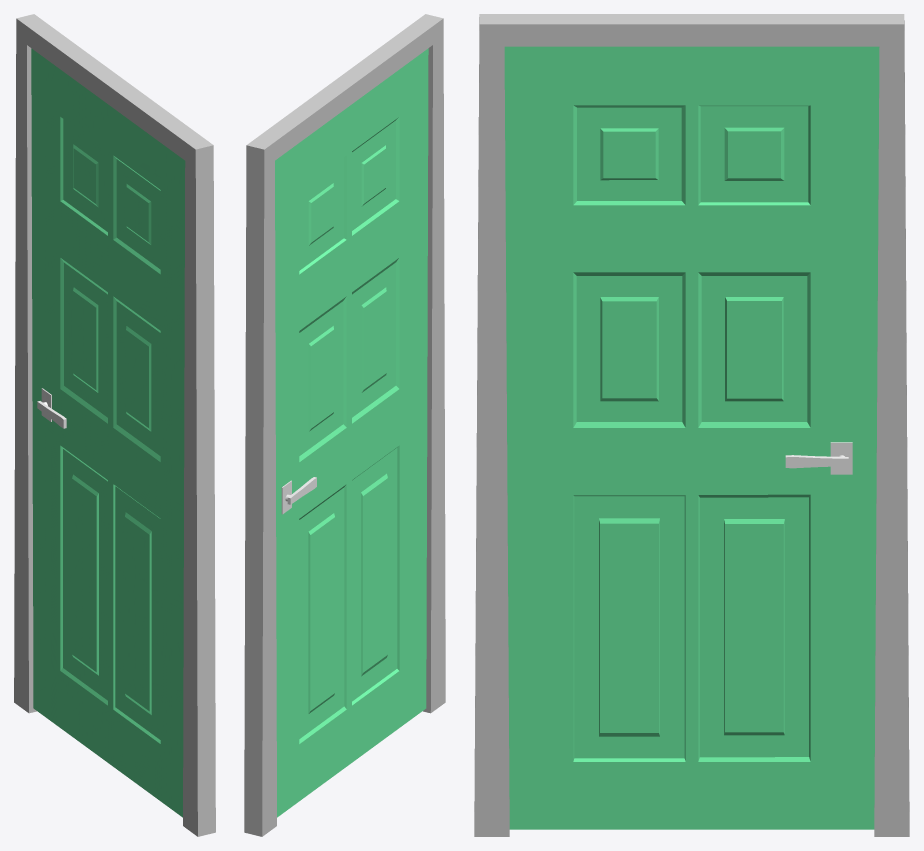
File: Main_Door.glb
The picture shows the model from 3 angles, left to right: view 1: azimuth 30°, elevation 25°; view 2: azimuth 150°, elevation 25°; view 3: azimuth 270°, elevation 25°; orthographic projection. The views are drawn at different scales.
Parts seen in each view (by area): view 1: DOOR.002; view 2: DOOR.002; view 3: DOOR.002.
Part boxes in pixels (left/top/right/bottom): DOOR.002: left=14, top=14, right=215, bottom=836; DOOR.002: left=244, top=14, right=445, bottom=836; DOOR.002: left=474, top=14, right=909, bottom=836.
Bounding box in the file's own units: 0.0794 × 2.23 × 1.08.
